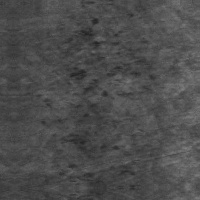rolled-in_scale: (40, 27, 156, 162), (49, 130, 133, 184)
